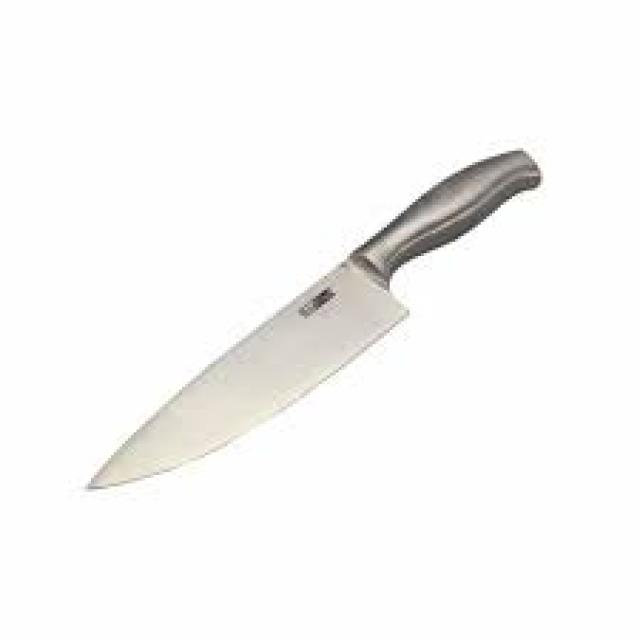Knife: (85, 148, 540, 489)
